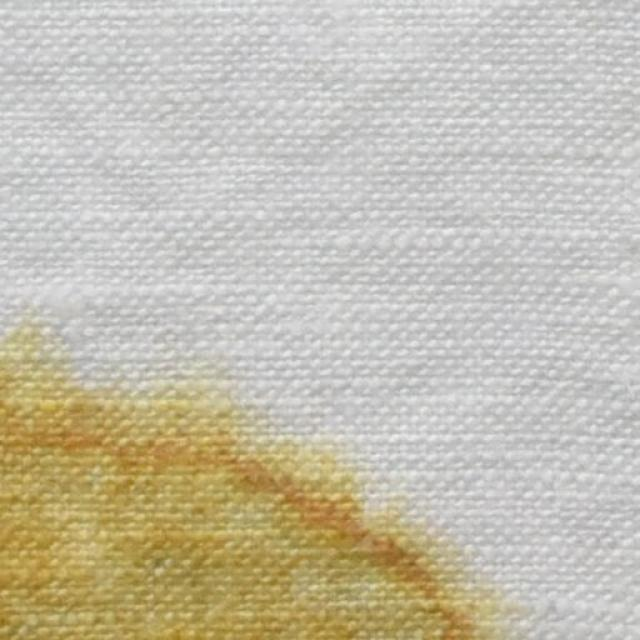Stain: (0, 319, 521, 640)
